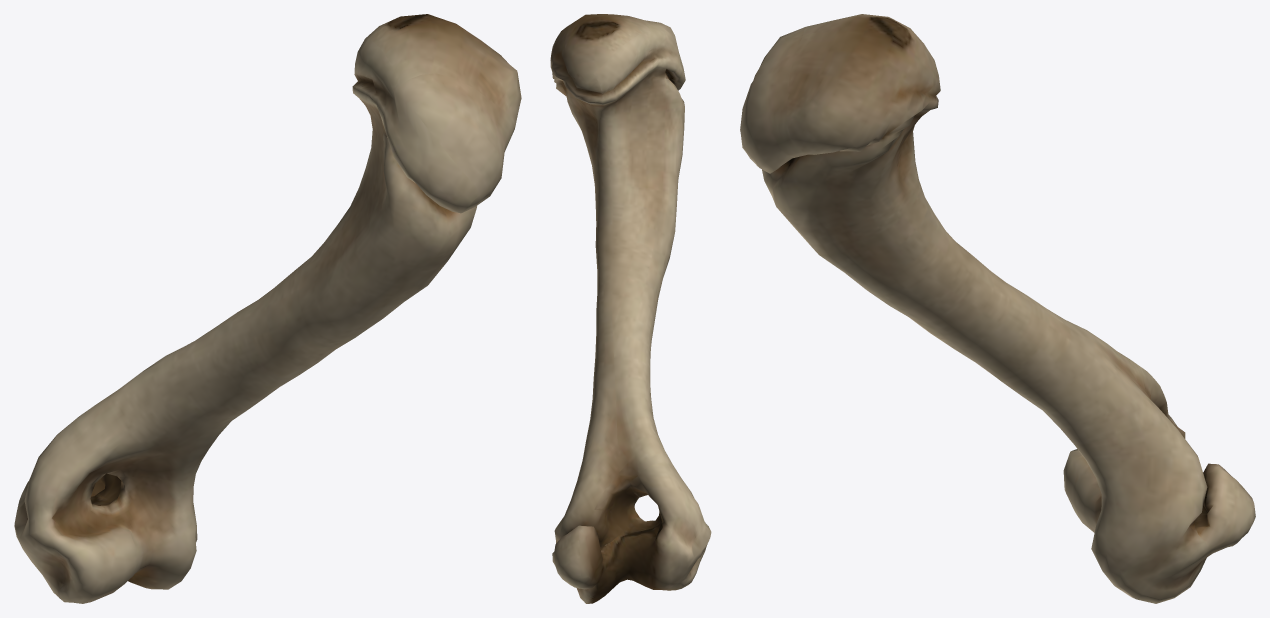
The model's file is Humerus.glb.
3 renders of one model, left to right at view 1: azimuth 30°, elevation 25°; view 2: azimuth 150°, elevation 25°; view 3: azimuth 270°, elevation 25°, orthographic. The views are drawn at different scales.
Parts seen in each view (by area): view 1: Humerus_Right5:Humerus_Right2; view 2: Humerus_Right5:Humerus_Right2; view 3: Humerus_Right5:Humerus_Right2.
Part boxes in pixels (x1,y1,x2,y2): Humerus_Right5:Humerus_Right2: (14, 14, 521, 603); Humerus_Right5:Humerus_Right2: (550, 14, 711, 603); Humerus_Right5:Humerus_Right2: (740, 14, 1255, 603).
Bounding box in the file's own units: 60.84 × 108 × 79.02.
Materials: 1 (1 with a texture image).
